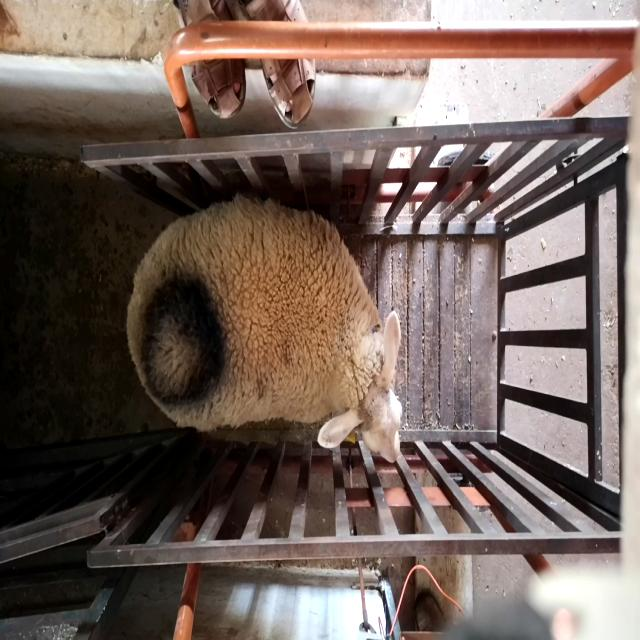sheep: (125, 196, 402, 463)
